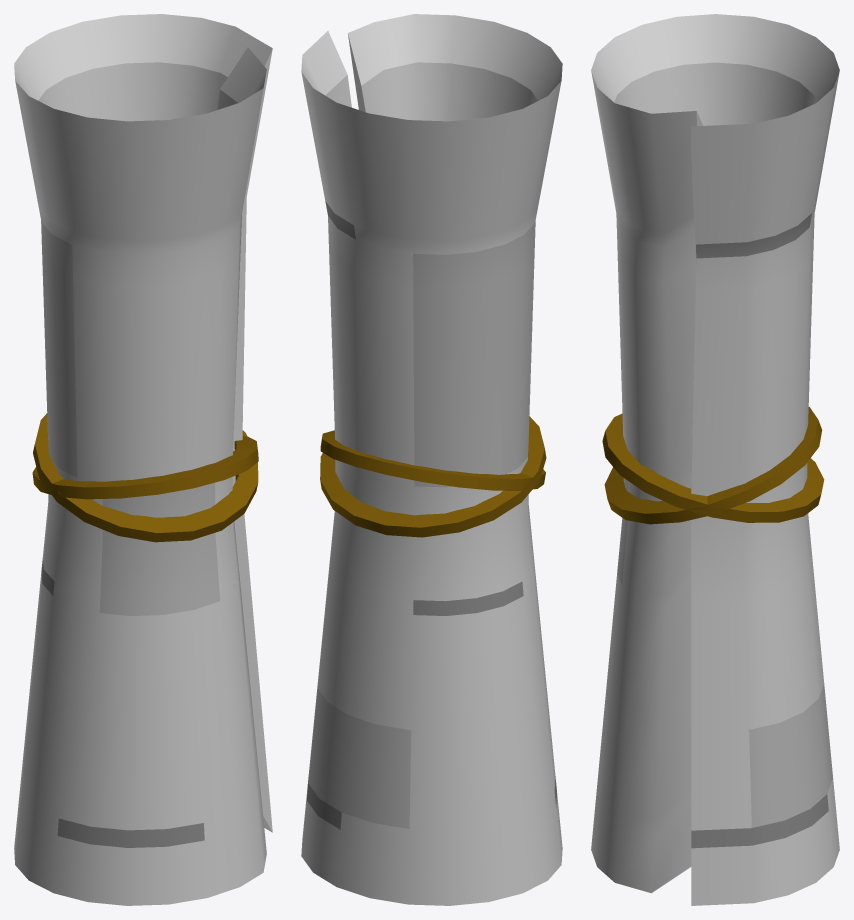
Rendered from newspaper.fbx.
3 renders of one model, left to right at view 1: azimuth 30°, elevation 25°; view 2: azimuth 150°, elevation 25°; view 3: azimuth 270°, elevation 25°, orthographic.
Parts seen in each view (by area): view 1: pPipe4; view 2: pPipe4; view 3: pPipe4.
Part boxes in pixels (<box>): pPipe4: <box>14,14,272,905</box>; pPipe4: <box>301,14,562,905</box>; pPipe4: <box>591,14,839,905</box>.
Bounding box in the file's own units: 0.2908 × 0.9456 × 0.2718.
